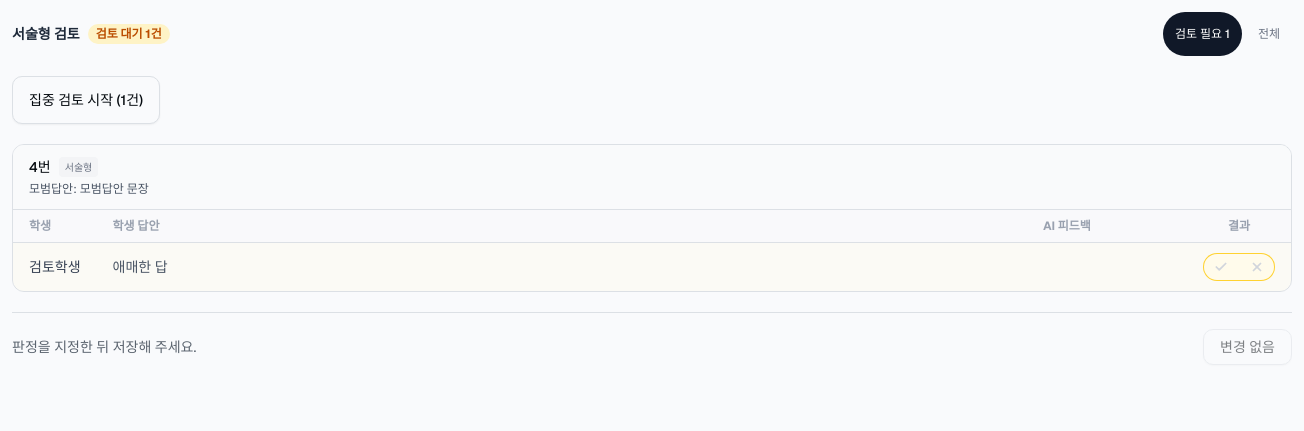
Scenario: SubjectiveReviewPanel — 판정 버튼 분리 › 판정해도 행 순서가 고정된다 — 정렬은 저장 전 원본 상태 기준
Click the button "전체" at (1269, 34), box 1246,12 -> 1292,56
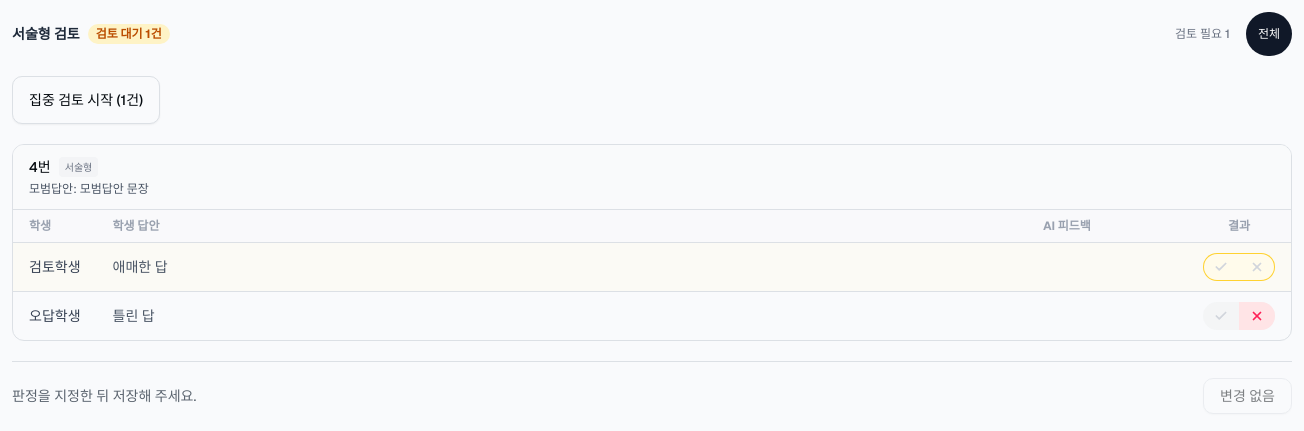
Click the button named "정답" in the row of "검토학생" at (1221, 267), box 1203,253 -> 1239,281
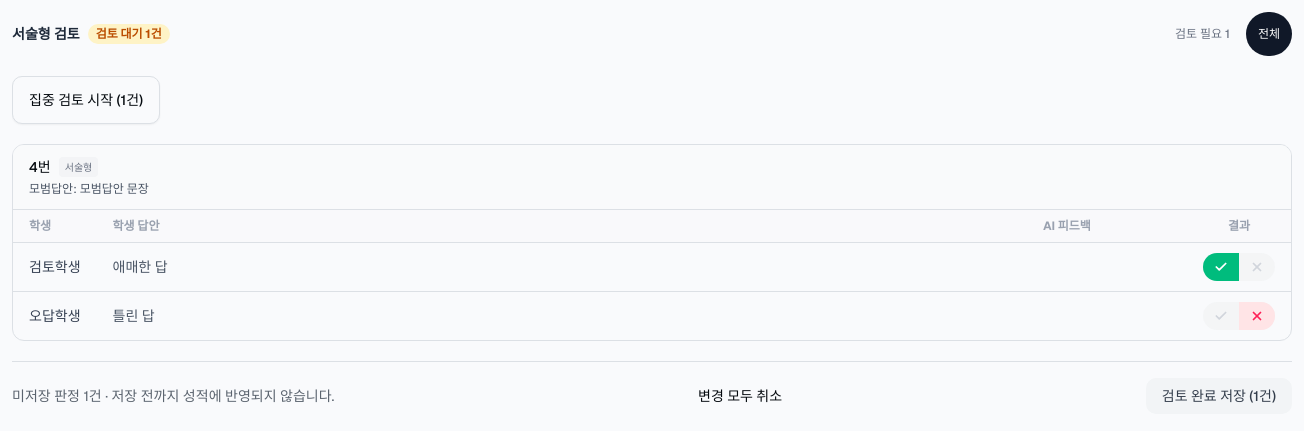
Expected: the button "검토 완료 저장 (1건)" is shown, 1146,378 -> 1292,414
